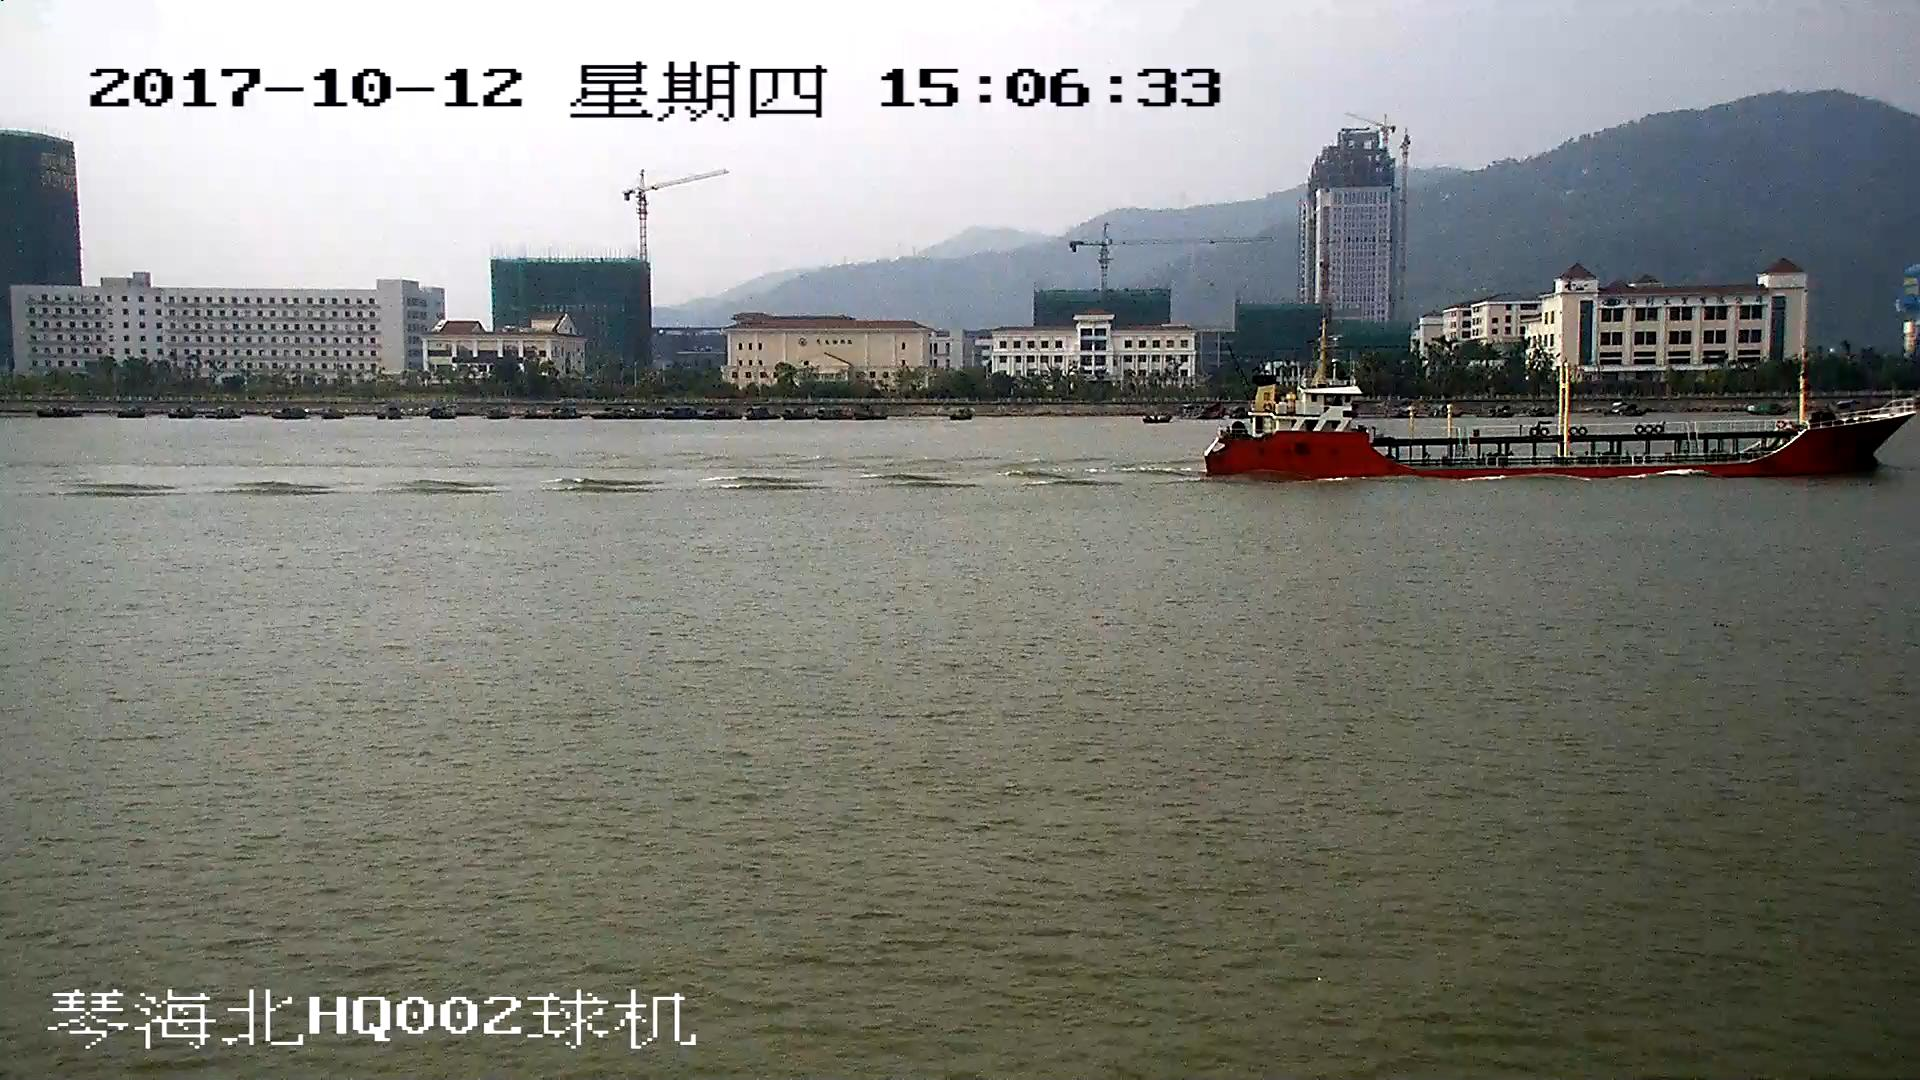general cargo ship: (1203, 333, 1920, 485)
